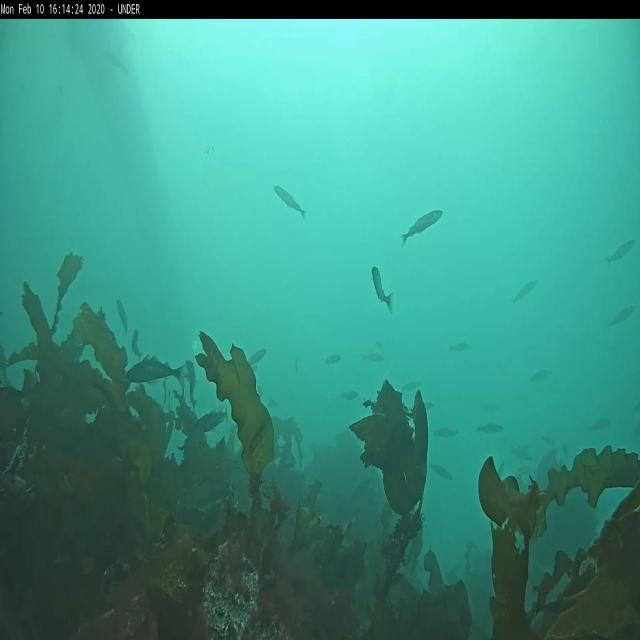fish: (122, 354, 186, 388), (401, 210, 443, 247), (273, 186, 307, 220), (192, 404, 228, 434), (372, 267, 395, 313), (605, 238, 634, 265), (608, 305, 634, 331), (512, 280, 538, 306), (116, 297, 127, 338), (430, 460, 452, 480), (131, 329, 142, 360), (512, 445, 532, 462), (477, 424, 502, 436), (449, 341, 472, 354), (531, 368, 552, 382), (400, 380, 422, 393), (433, 427, 460, 437), (362, 352, 383, 364), (339, 389, 357, 402), (326, 355, 341, 367)
